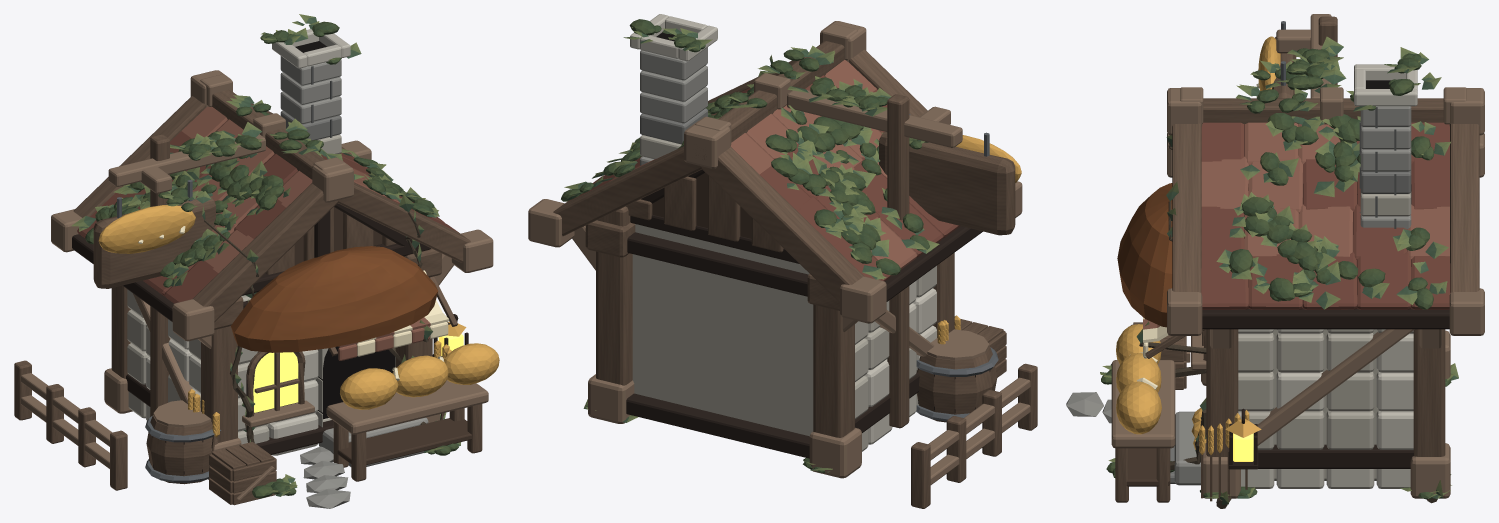
The model's file is bakery.glb.
3 renders of one model, left to right at view 1: azimuth 30°, elevation 25°; view 2: azimuth 150°, elevation 25°; view 3: azimuth 270°, elevation 25°, orthographic. The views are drawn at different scales.
Parts seen in each view (by area): view 1: Woodland layered bakery porch cap, Carved roof verge, Bakery wooden sign, Baker market counter, Carved roof verge.002, Hero golden bread loaf.003, Corner upright, Counter lower shelf, Barrel staves, Bakery sign post, Carved roof verge.001, Bakery hanging sign beam (+55 smaller); view 2: Cottage walls, Bakery wooden sign, Carved roof verge.001, Bakery sign post, Corner upright.003, Corner upright.001, Carved roof verge.003, Wall cross beam.001, Wall cross beam.003, Barrel staves, Bakery hanging sign beam, Ridge timber (+46 smaller); view 3: Woodland layered bakery porch cap, Carved roof verge.003, Roof eave.001, Carved roof verge.002, Corner upright.003, Side wall diagonal.001, Side wall lower tie.001, Corner upright.002, Ridge timber, Baker market counter, Overlapping roof tile.038, Overlapping roof tile.025 (+64 smaller).
Boxes of the visible parts, left/top/right/bottom form: Woodland layered bakery porch cap: left=231, top=246, right=438, bottom=352; Carved roof verge: left=192, top=183, right=338, bottom=322; Bakery wooden sign: left=93, top=196, right=215, bottom=288; Baker market counter: left=326, top=380, right=488, bottom=434; Carved roof verge.002: left=337, top=182, right=470, bottom=262; Hero golden bread loaf.003: left=98, top=205, right=195, bottom=253; Corner upright: left=201, top=326, right=237, bottom=442; Counter lower shelf: left=337, top=418, right=471, bottom=464; Barrel staves: left=146, top=415, right=217, bottom=484; Bakery sign post: left=150, top=134, right=169, bottom=416; Carved roof verge.001: left=73, top=96, right=206, bottom=217; Bakery hanging sign beam: left=108, top=134, right=265, bottom=186; Cottage walls: left=632, top=224, right=813, bottom=436; Bakery wooden sign: left=879, top=132, right=1015, bottom=235; Carved roof verge.001: left=700, top=147, right=864, bottom=302; Bakery sign post: left=887, top=94, right=909, bottom=428; Corner upright.003: left=596, top=206, right=632, bottom=385; Corner upright.001: left=813, top=304, right=854, bottom=437; Carved roof verge.003: left=553, top=146, right=701, bottom=236; Wall cross beam.001: left=626, top=393, right=809, bottom=458; Wall cross beam.003: left=627, top=232, right=808, bottom=296; Barrel staves: left=916, top=346, right=997, bottom=422; Bakery hanging sign beam: left=787, top=90, right=962, bottom=147; Ridge timber: left=696, top=41, right=844, bottom=159; Woodland layered bakery porch cap: left=1117, top=183, right=1172, bottom=327; Carved roof verge.003: left=1450, top=123, right=1479, bottom=292; Roof eave.001: left=1202, top=309, right=1449, bottom=329; Carved roof verge.002: left=1172, top=123, right=1201, bottom=292; Corner upright.003: left=1413, top=329, right=1445, bottom=456; Side wall diagonal.001: left=1253, top=329, right=1414, bottom=448; Side wall lower tie.001: left=1253, top=444, right=1413, bottom=468; Corner upright.002: left=1206, top=329, right=1238, bottom=456; Ridge timber: left=1203, top=98, right=1443, bottom=124; Baker market counter: left=1111, top=360, right=1175, bottom=448; Overlapping roof tile.038: left=1357, top=251, right=1411, bottom=309; Overlapping roof tile.025: left=1201, top=157, right=1248, bottom=208.
Size of the model in its own units: 4.05 by 3.81 by 3.56.
22 materials, 7 textured.
